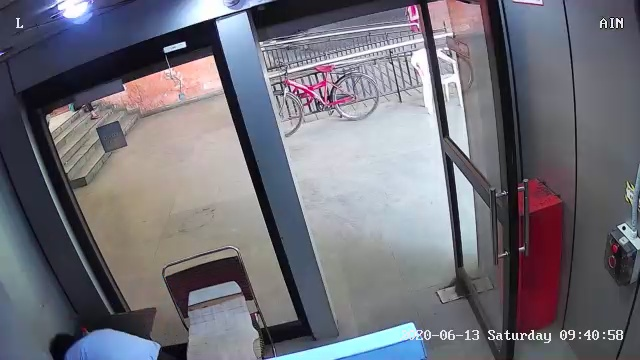open: (214, 4, 548, 359)
